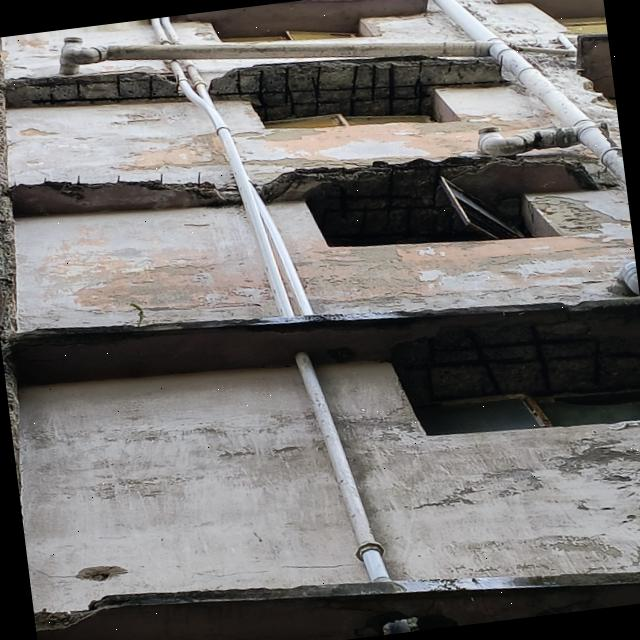Scaling: (296, 192, 628, 308), (403, 429, 640, 519), (234, 101, 555, 166), (72, 245, 260, 316), (108, 100, 218, 174), (22, 120, 60, 147)
Spalling: (0, 54, 640, 494), (33, 571, 640, 632), (254, 155, 604, 246), (391, 318, 640, 407), (209, 51, 502, 124), (10, 180, 241, 217), (9, 181, 240, 217), (5, 67, 182, 108), (12, 210, 16, 220)
pollution -moisture induced blackening: (50, 395, 640, 568)
